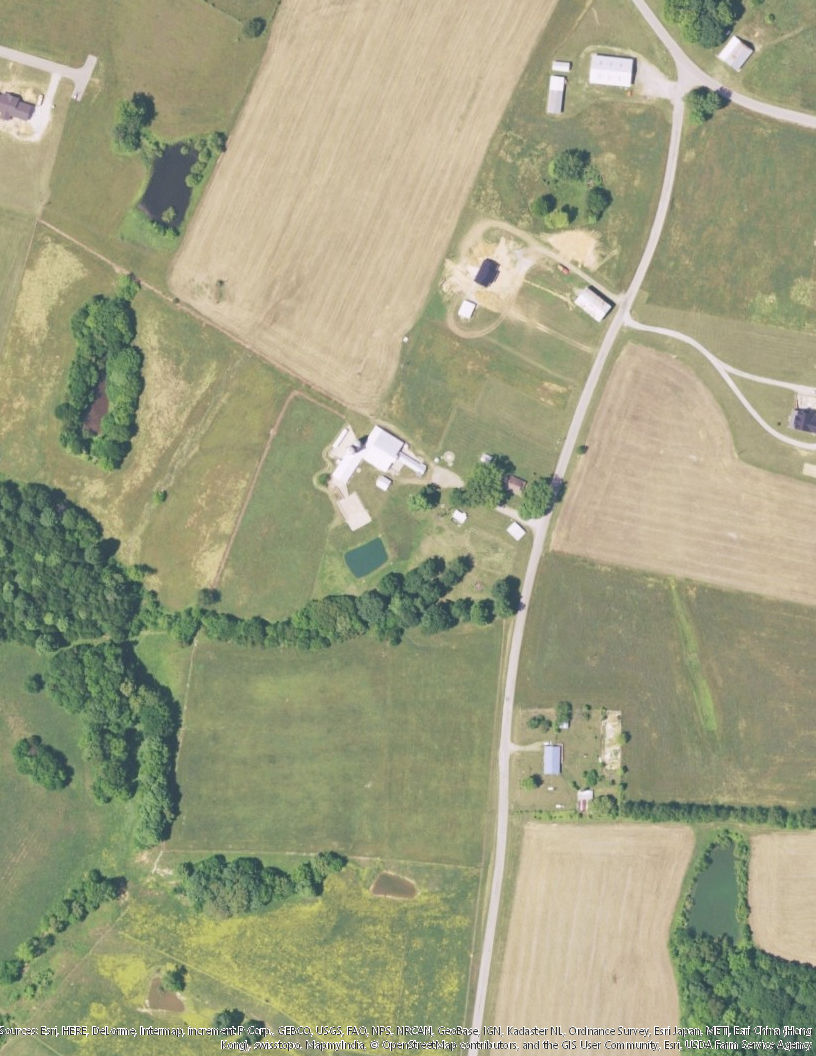cafo: (327, 426, 432, 531)
